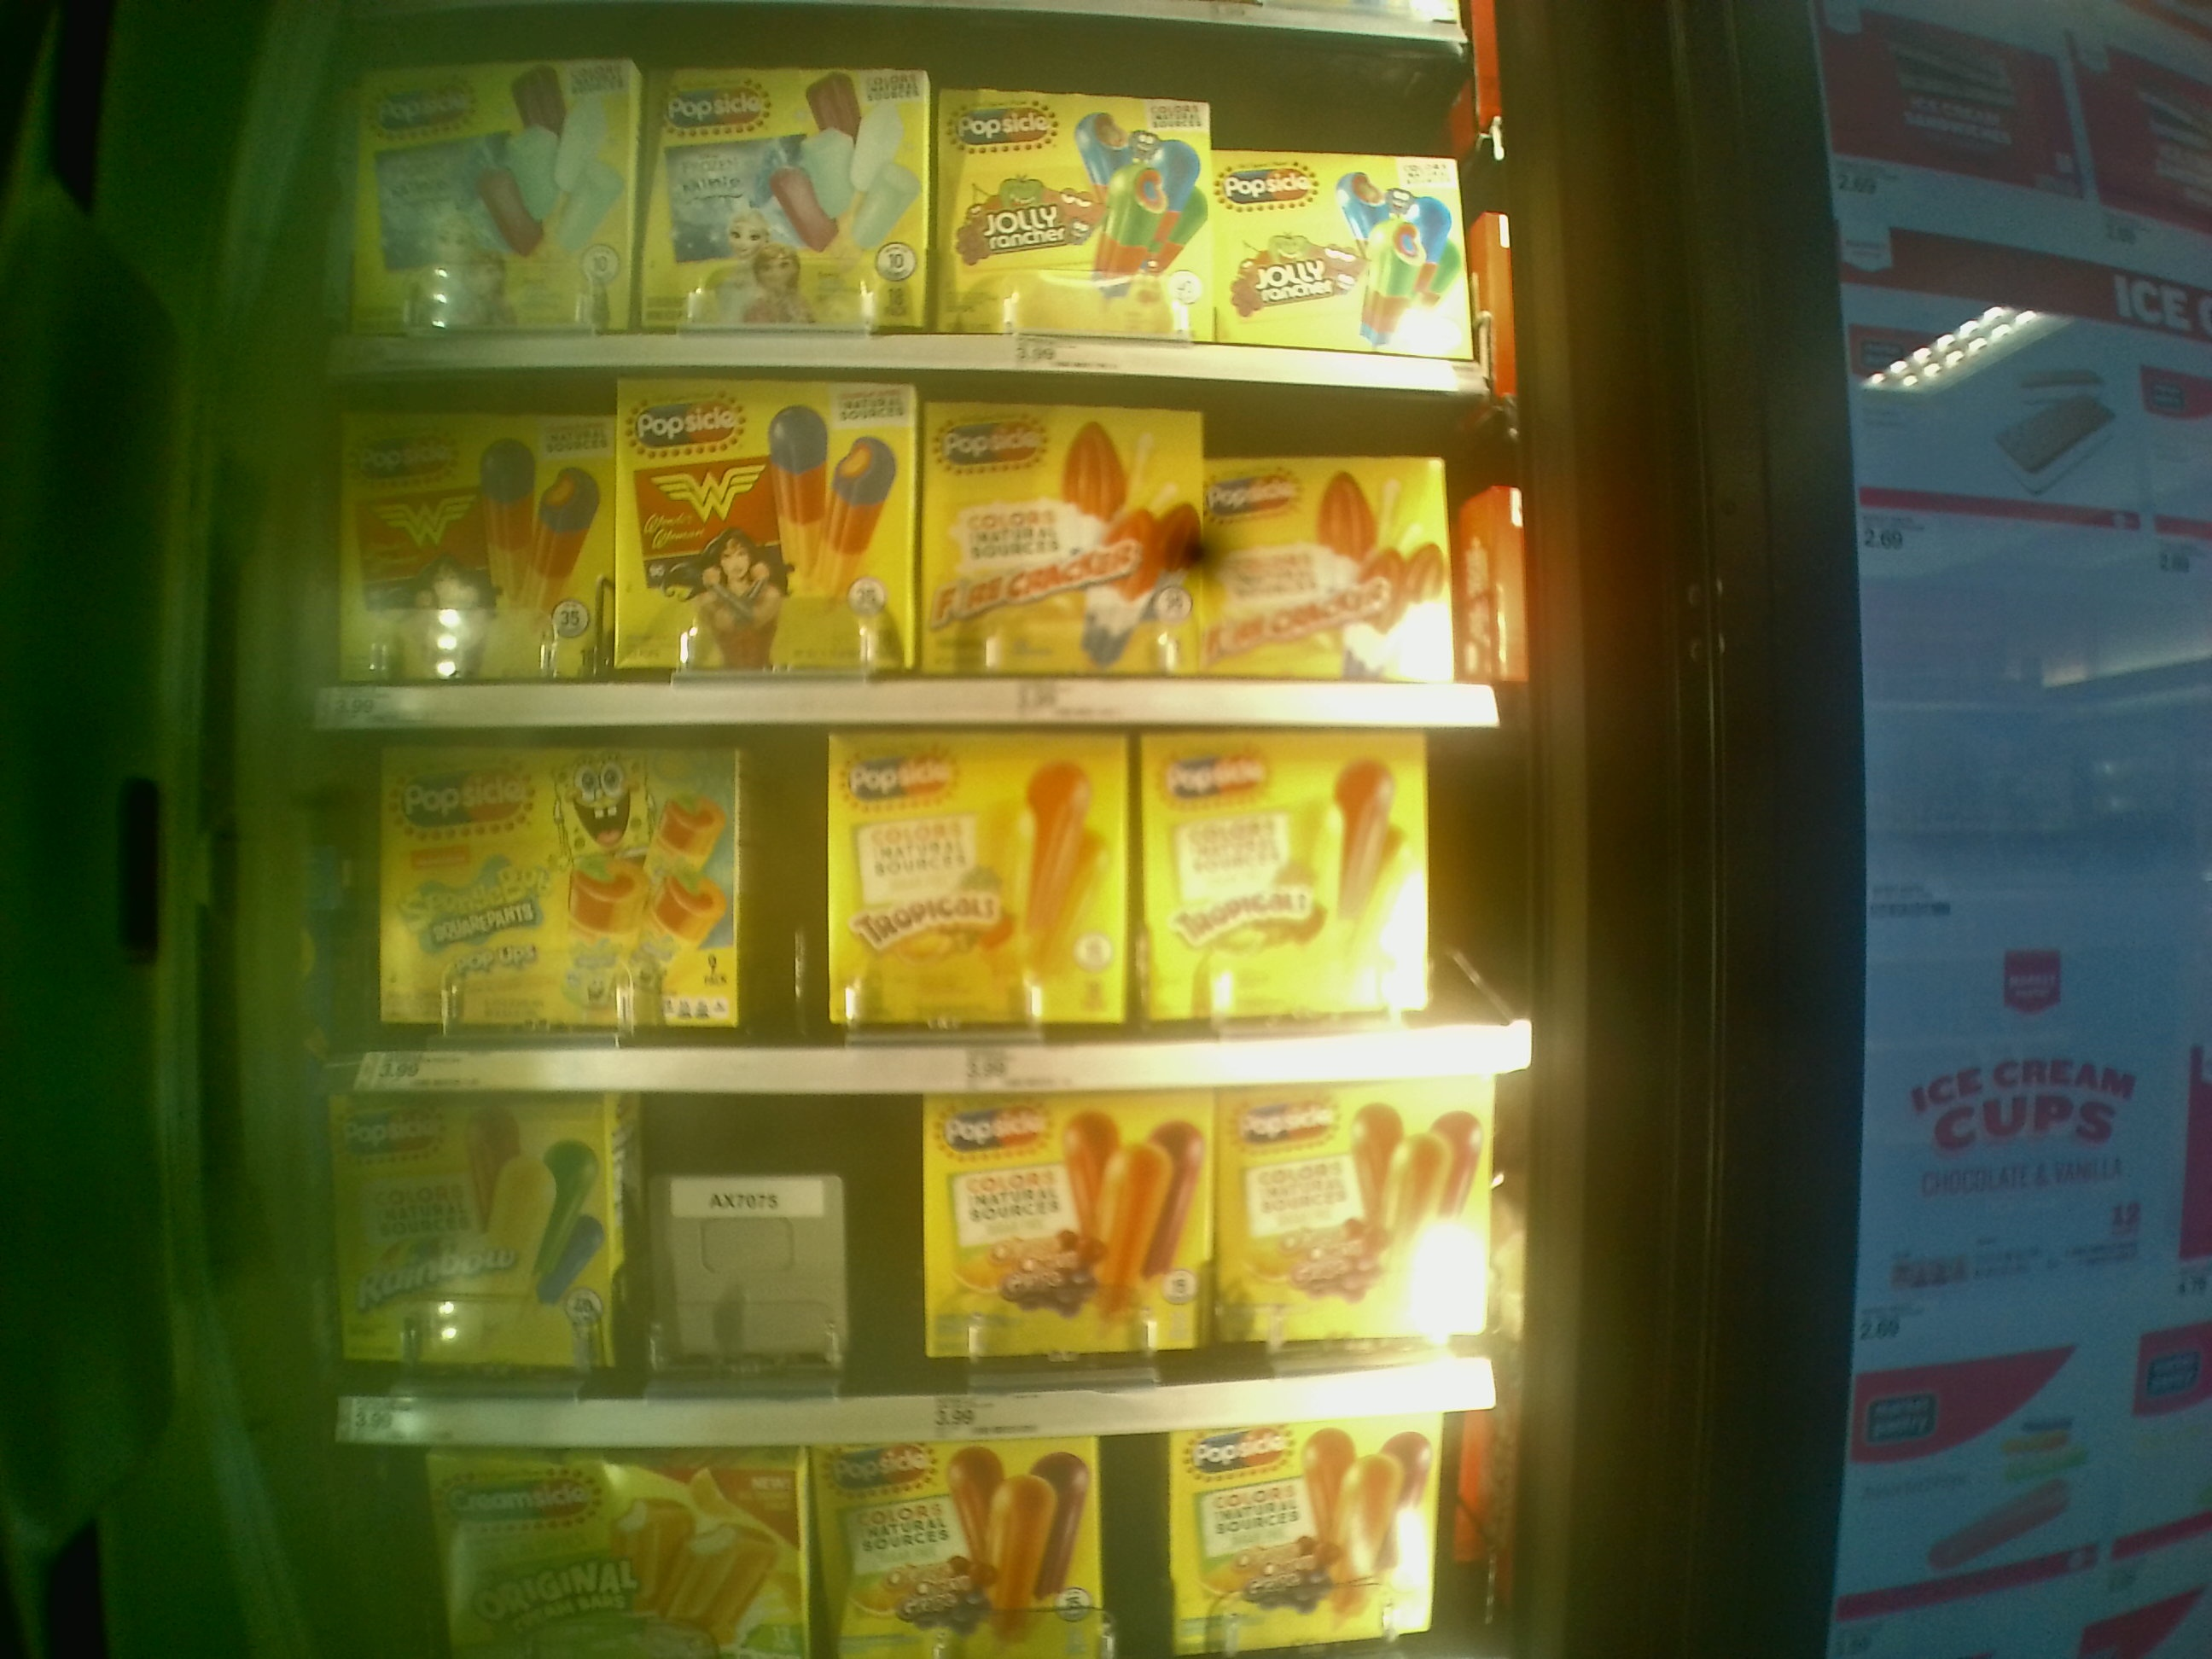shelf: (296, 16, 1487, 389), (327, 1082, 1526, 1445), (315, 727, 1533, 1079), (320, 369, 1531, 713)
